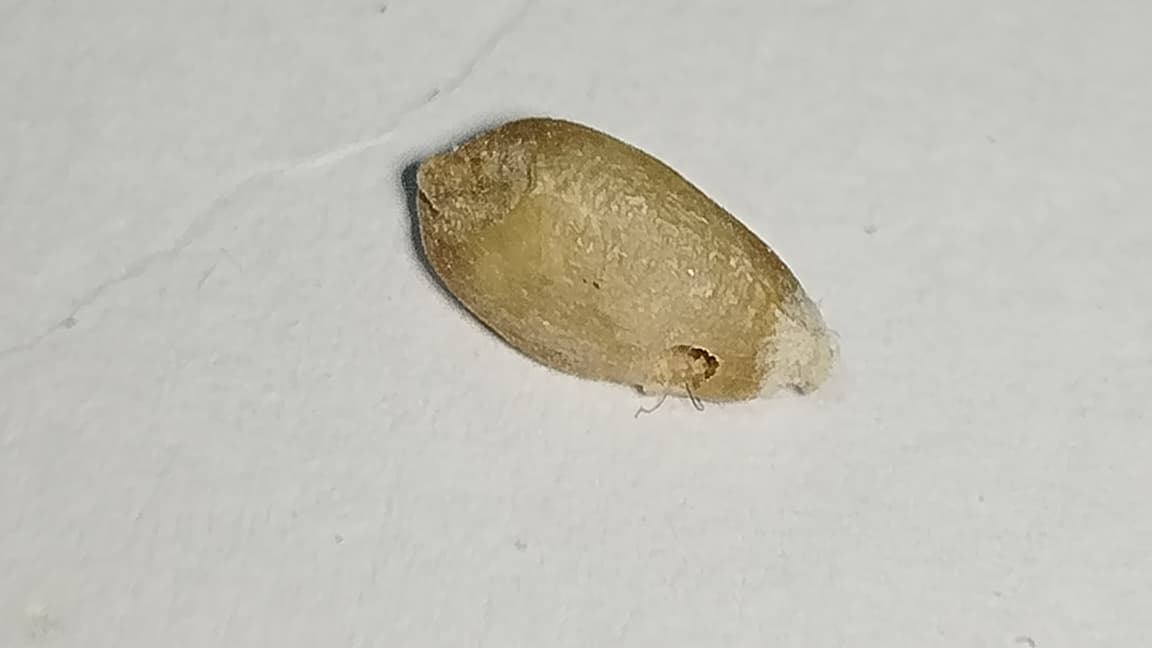damage: (419, 117, 835, 400)
insectdamage: (620, 311, 746, 413)
